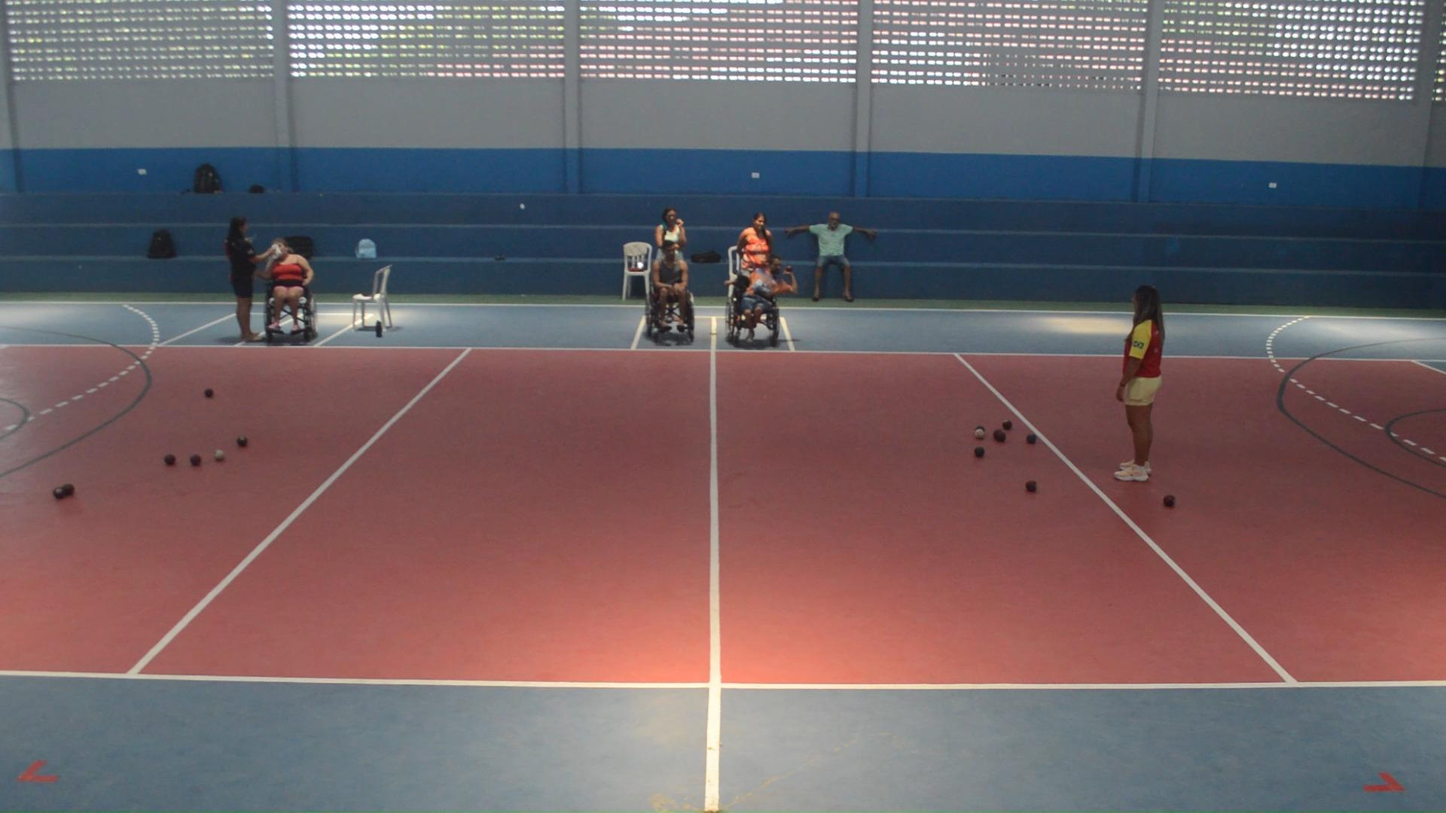blue_ball: (970, 444, 988, 460), (1024, 431, 1038, 446), (974, 423, 986, 434)
red_ball: (1160, 493, 1180, 511), (50, 485, 68, 502), (187, 453, 204, 469), (61, 481, 77, 498), (1024, 478, 1040, 495), (162, 452, 177, 468), (235, 435, 249, 449), (202, 386, 216, 400), (994, 430, 1008, 444), (1000, 418, 1015, 431), (992, 429, 1005, 442)
white_ball: (212, 448, 227, 463), (973, 427, 987, 440)
